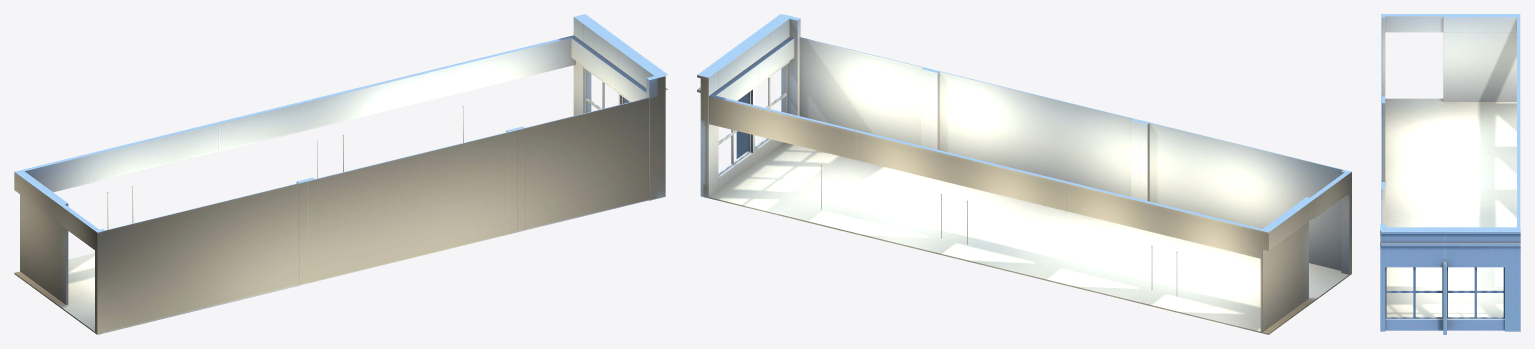
3 views of the same model, side by side, from view 1: azimuth 30°, elevation 25°; view 2: azimuth 150°, elevation 25°; view 3: azimuth 270°, elevation 25° (orthographic). The views are drawn at different scales.
Visible parts, largest first — view 1: hc_2floor_room005 (1)_0; view 2: hc_2floor_room005 (1)_0; view 3: hc_2floor_room005 (1)_0.
Part boxes in pixels (x1=…): hc_2floor_room005 (1)_0: x1=14, y1=14, x2=668, y2=334; hc_2floor_room005 (1)_0: x1=697, y1=14, x2=1351, y2=334; hc_2floor_room005 (1)_0: x1=1380, y1=14, x2=1520, y2=334.
Bounding box in the file's own units: 2.47 × 0.4944 × 0.6228.
Materials: 1 (1 with a texture image).
